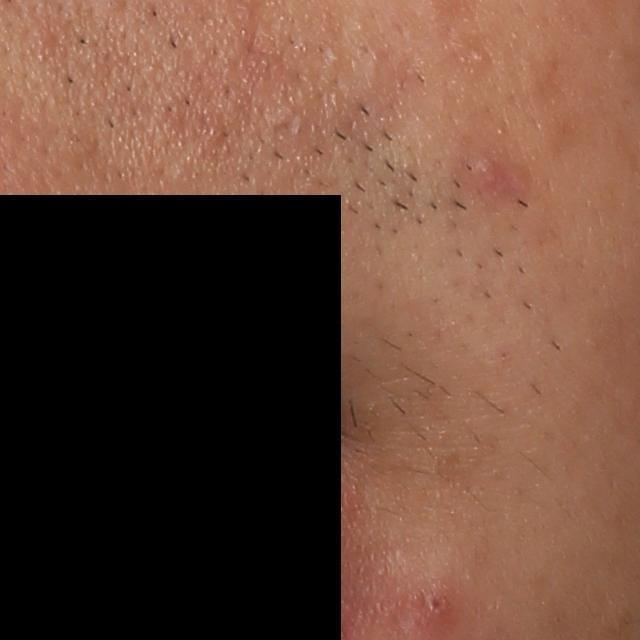comedo: (468, 46, 493, 66)
papule: (472, 153, 517, 200), (410, 587, 453, 632)
